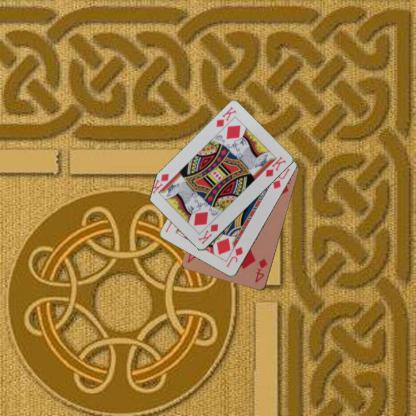4d: (252, 256, 269, 284)
Jd: (224, 244, 244, 269)
Kd: (195, 221, 220, 246), (214, 104, 237, 129)
